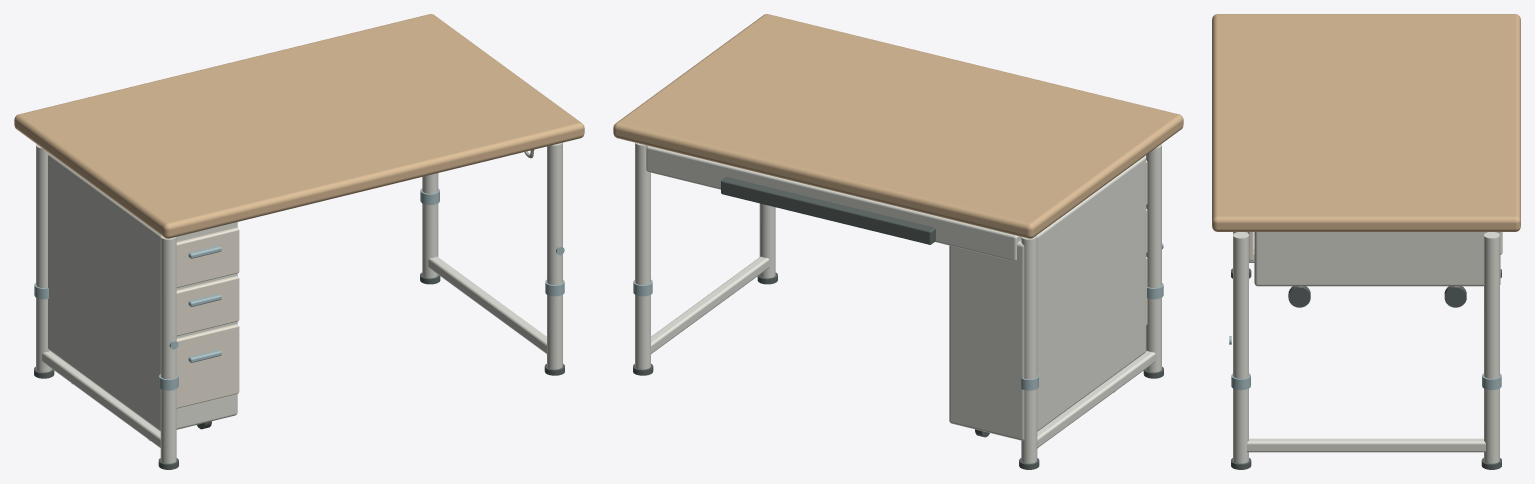
The model's file is urban-child-desk-detailed-v1.glb.
3 renders of one model, left to right at view 1: azimuth 30°, elevation 25°; view 2: azimuth 150°, elevation 25°; view 3: azimuth 270°, elevation 25°, orthographic.
Parts seen in each view (by area): view 1: Wood-tabletop, Drawer-cabinet, Round-telescoping-leg (×4), Drawer-front (×3), Foot-cross-brace (×2); view 2: Wood-tabletop, Drawer-cabinet, Round-telescoping-leg (×4), Under-desk-apron, Foot-cross-brace (×2), Cable-tray; view 3: Wood-tabletop, Drawer-cabinet, Round-telescoping-leg (×2), Foot-cross-brace, Cabinet-caster (×2).
Part boxes in pixels (x1,y1,x2,y2): Wood-tabletop: (14,14,584,238); Drawer-cabinet: (48,153,237,431); Round-telescoping-leg (×4): (36,142,562,463); Drawer-front (×3): (176,227,239,408); Foot-cross-brace (×2): (42,256,546,447); Wood-tabletop: (613,14,1183,238); Drawer-cabinet: (949,156,1145,440); Round-telescoping-leg (×4): (635,142,1161,463); Under-desk-apron: (646,146,1021,261); Foot-cross-brace (×2): (651,256,1155,447); Cable-tray: (721,177,935,244); Wood-tabletop: (1212,14,1520,231); Drawer-cabinet: (1254,232,1500,286); Round-telescoping-leg (×2): (1233,232,1499,463); Foot-cross-brace: (1247,438,1485,452); Cabinet-caster (×2): (1288,286,1466,307).
Size of the model in its own units: 1.1 by 0.6325 by 0.6925.
